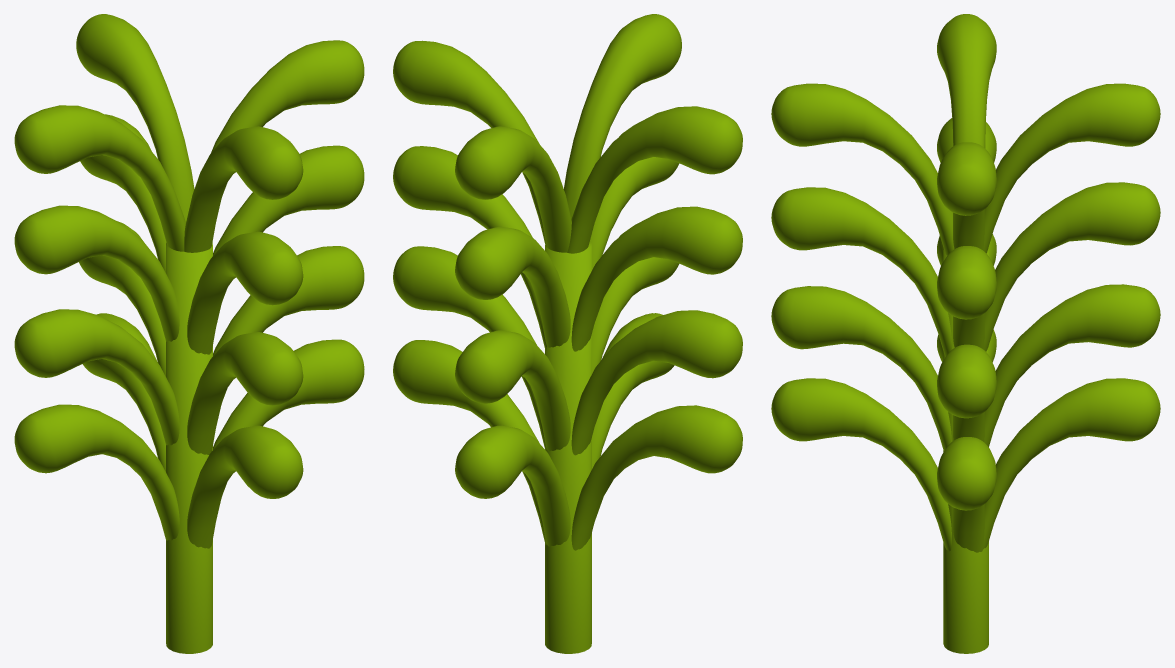
The model's file is l_drzewo_male_2.fbx.
3 renders of one model, left to right at view 1: azimuth 30°, elevation 25°; view 2: azimuth 150°, elevation 25°; view 3: azimuth 270°, elevation 25°, orthographic.
Parts seen in each view (by area): view 1: roslinka; view 2: roslinka; view 3: roslinka.
Part boxes in pixels (bbox=[...]): roslinka: bbox=[14, 14, 364, 653]; roslinka: bbox=[393, 14, 742, 653]; roslinka: bbox=[771, 14, 1160, 653].
Size of the model in its own units: 221 by 349 by 221.
